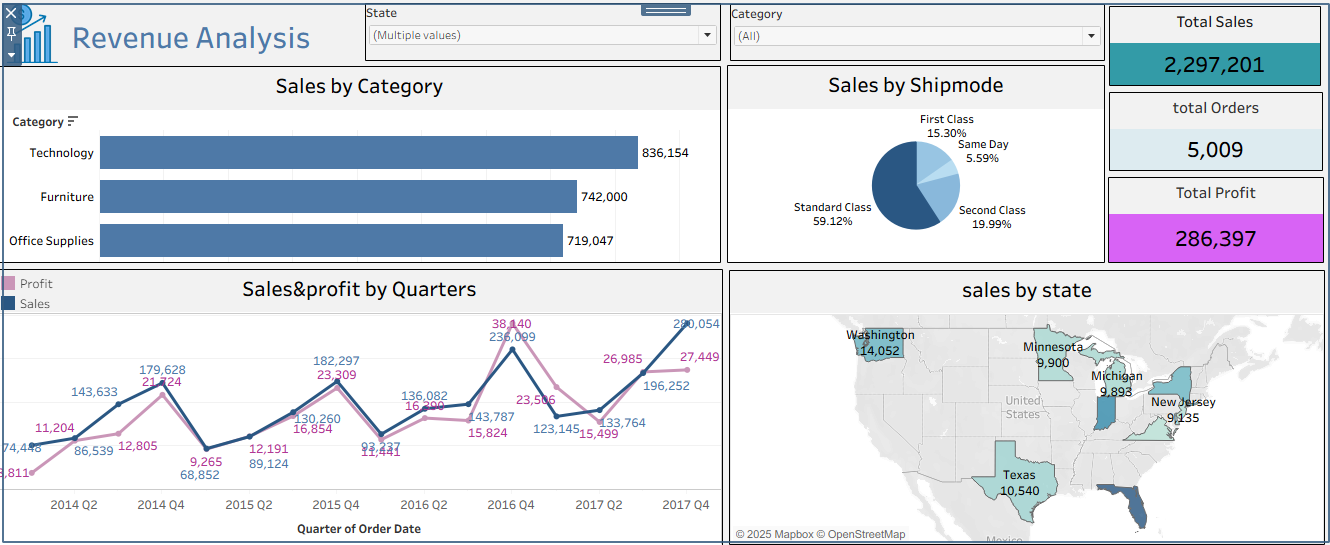

The dashboard page shown, as its layout file describes it:
{"tool":"tableau","page":{"name":"Revenue Report","canvas":[1000,1000],"units":"permille","ordinal":2},"visuals":[{"type":"image","param":"E:/Data X/level three/icons/revenue/revenue.png","box":[4.5,10.9,57,108.7]},{"type":"filter","title":"sales by state","param":"[federated.01d47lb1yux3pj1e7rsqf0ced0a5].[none:State:nk]","box":[275.3,10.9,265.8,105.1]},{"type":"filter","title":"Sales by Category","param":"[federated.01d47lb1yux3pj1e7rsqf0ced0a5].[none:Category:nk]","box":[547.6,12.7,279.6,103.3]},{"type":"worksheet","title":"Total Sales","mark":"Automatic","box":[830.6,16.3,158.2,144.9]},{"type":"text","box":[54.3,21.7,256.5,97.8]},{"type":"worksheet","title":"Sales by Shipmode","mark":"Pie","box":[545.9,123.2,282.3,358.7]},{"type":"worksheet","title":"Sales by Category","mark":"Automatic","rows":["Category"],"cols":["Sales"],"box":[1.8,125,539.6,356.9]},{"type":"worksheet","title":"total Orders","mark":"Automatic","box":[830.8,172.1,159.4,143.1]},{"type":"worksheet","title":"Total Profit","mark":"Automatic","box":[829.9,326.1,161.2,155.8]},{"type":"legend","title":"Sales&profit by Quarters","param":"[federated.01d47lb1yux3pj1e7rsqf0ced0a5].[:Measure Names]","box":[1.8,467.4,107.8,117.8]},{"type":"worksheet","title":"Sales&profit by Quarters","mark":"Automatic","rows":["Profit","Sales"],"cols":["Order Date"],"box":[0,492,542.7,502.7]},{"type":"worksheet","title":"sales by state","mark":"Automatic","box":[547.1,494.7,445,498.7]}]}

Visuals, with their boxes on the dashboard's canvas, which has no fixed pixel size, in thousandths of its width and height (x1, y1, x2, y2). These are canvas units, not pixel positions in the 1330x545 screenshot, which may show the page scaled, cropped or inside an application window:
image: (4,11,62,120)
"sales by state" filter: (275,11,541,116)
"Sales by Category" filter: (548,13,827,116)
"Total Sales" worksheet: (831,16,989,161)
text: (54,22,311,120)
"Sales by Shipmode" worksheet (Pie marks): (546,123,828,482)
"Sales by Category" worksheet: (2,125,541,482)
"total Orders" worksheet: (831,172,990,315)
"Total Profit" worksheet: (830,326,991,482)
"Sales&profit by Quarters" legend: (2,467,110,585)
"Sales&profit by Quarters" worksheet: (0,492,543,995)
"sales by state" worksheet: (547,495,992,993)
